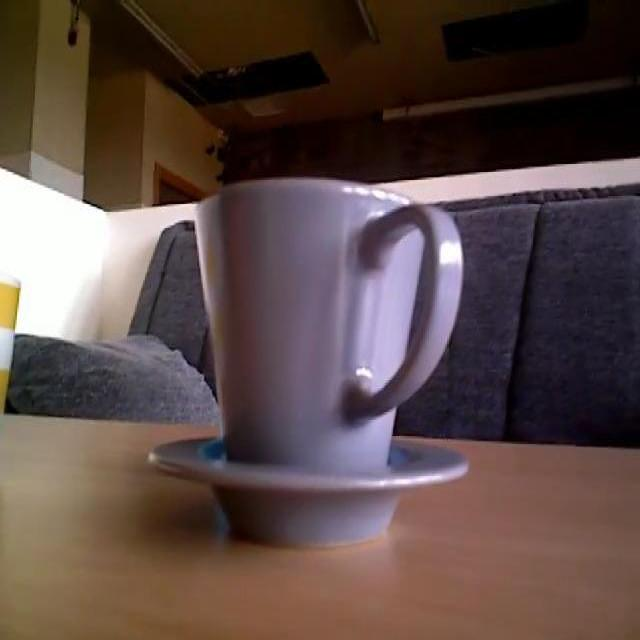cup: (142, 180, 480, 549)
